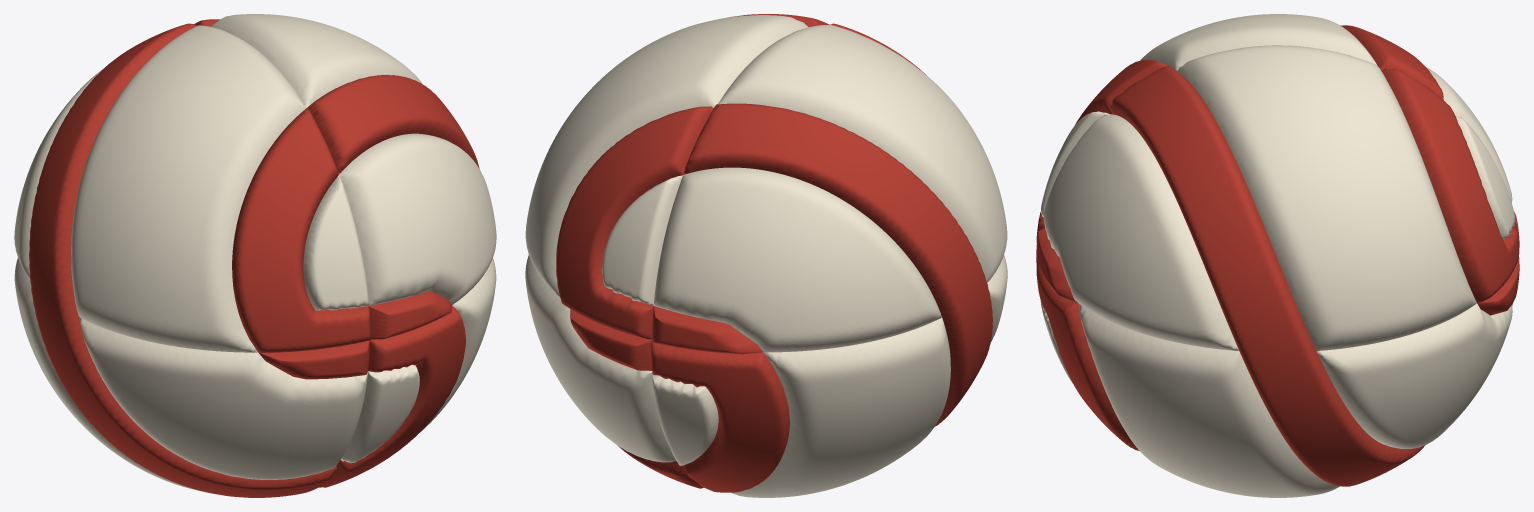
The model's file is gores.glb.
3 views of the same model, side by side, from view 1: azimuth 30°, elevation 25°; view 2: azimuth 150°, elevation 25°; view 3: azimuth 270°, elevation 25° (orthographic).
Parts seen in each view (by area): view 1: panel_003_polygon, panel_005_polygon, panel_004_polygon, panel_020_polygon, panel_009_polygon, panel_010_polygon, panel_001_polygon, panel_007_polygon, panel_021_polygon, panel_006_polygon, panel_008_polygon, panel_017_polygon (+3 smaller); view 2: panel_016_polygon, panel_003_polygon, panel_004_polygon, panel_017_polygon, panel_001_polygon, panel_002_polygon, panel_013_polygon, panel_011_polygon, panel_015_polygon, panel_012_polygon, panel_022_polygon, panel_014_polygon (+2 smaller); view 3: panel_001_polygon, panel_010_polygon, panel_020_polygon, panel_018_polygon, panel_011_polygon, panel_002_polygon, panel_003_polygon, panel_007_polygon, panel_015_polygon, panel_004_polygon, panel_009_polygon, panel_016_polygon (+3 smaller).
Part boxes in pixels (x1,y1,x2,y2): panel_003_polygon: (71,25,305,352); panel_005_polygon: (80,318,368,479); panel_004_polygon: (29,23,336,497); panel_020_polygon: (339,133,496,305); panel_009_polygon: (232,108,370,352); panel_010_polygon: (307,74,479,174); panel_001_polygon: (210,14,422,107); panel_007_polygon: (319,306,465,487); panel_021_polygon: (303,175,369,310); panel_006_polygon: (341,364,419,463); panel_008_polygon: (259,340,369,379); panel_017_polygon: (14,258,208,492); panel_016_polygon: (653,167,941,352); panel_003_polygon: (718,25,1007,282); panel_004_polygon: (683,103,992,426); panel_017_polygon: (731,318,950,497); panel_001_polygon: (525,15,808,296); panel_002_polygon: (556,106,713,339); panel_013_polygon: (651,340,789,492); panel_011_polygon: (525,255,676,462); panel_015_polygon: (602,175,682,305); panel_012_polygon: (652,375,718,465); panel_022_polygon: (652,306,762,354); panel_014_polygon: (570,309,652,370); panel_001_polygon: (1177,45,1476,350); panel_010_polygon: (1110,66,1424,486); panel_020_polygon: (1043,114,1239,350); panel_018_polygon: (1079,304,1339,497); panel_011_polygon: (1316,303,1512,448); panel_002_polygon: (1381,69,1519,302); panel_003_polygon: (1140,14,1377,70); panel_007_polygon: (1036,265,1139,450); panel_015_polygon: (1455,116,1514,239); panel_004_polygon: (1340,25,1443,99); panel_009_polygon: (1036,59,1168,242); panel_016_polygon: (1426,67,1512,202).
Bounding box in the file's own units: 4.24 × 4.22 × 4.24.
